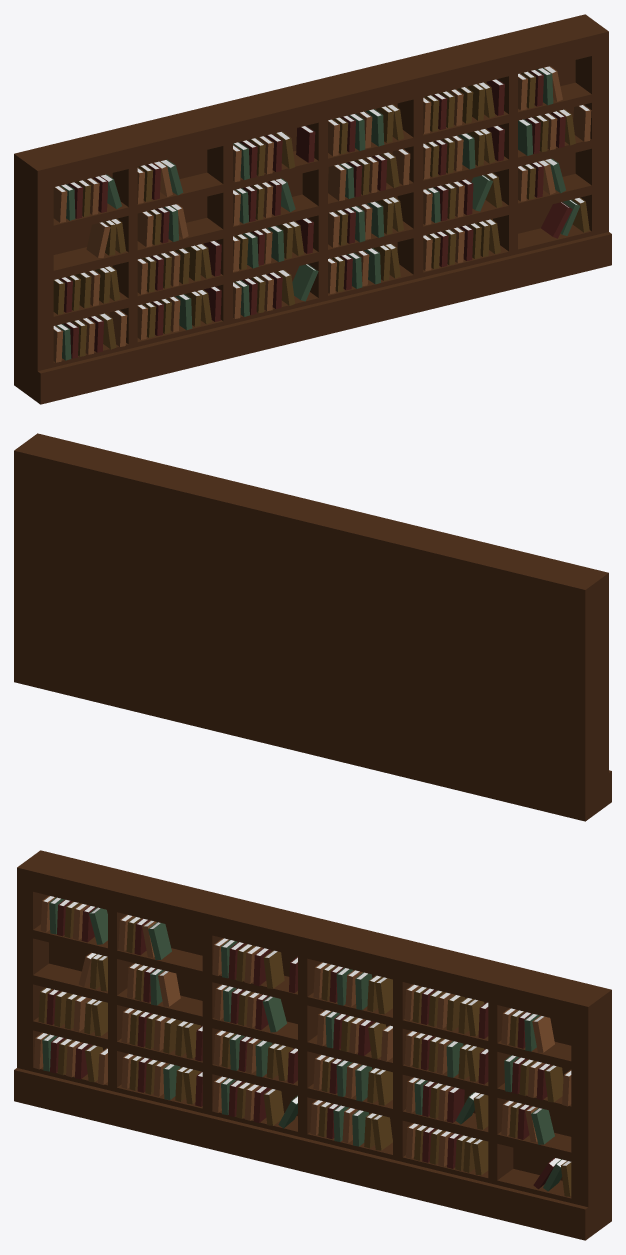
Rendered from BookShelf.fbx.
3 renders of one model, top to bottom at view 1: azimuth 30°, elevation 25°; view 2: azimuth 150°, elevation 25°; view 3: azimuth 330°, elevation 25°, orthographic.
Visible parts, largest first — view 1: Bookshelf, Book3.035, Book2.001, Book1.045, Book3.024, Book1.023, Book1.017, Book1.031, Book2.003; view 2: Bookshelf; view 3: Bookshelf, Book4.015, Book2.024, Book1.034, Book1.032, Book2.020, Book2.022, Book4.001, Book4.042, Book4.024, Book4.056, Book4.041 (+2 smaller).
Part boxes in pixels (x1=…): Bookshelf: x1=14, y1=14, x2=611, y2=404; Book3.035: x1=541, y1=202, x2=572, y2=238; Book2.001: x1=292, y1=264, x2=318, y2=301; Book1.045: x1=86, y1=222, x2=110, y2=257; Book3.024: x1=296, y1=126, x2=315, y2=162; Book1.023: x1=328, y1=164, x2=346, y2=200; Book1.017: x1=573, y1=104, x2=591, y2=141; Book1.031: x1=137, y1=211, x2=153, y2=247; Book2.003: x1=471, y1=175, x2=492, y2=211; Bookshelf: x1=14, y1=433, x2=611, y2=821; Bookshelf: x1=14, y1=850, x2=611, y2=1240; Book4.015: x1=263, y1=950, x2=284, y2=988; Book2.024: x1=148, y1=922, x2=171, y2=960; Book1.034: x1=532, y1=1015, x2=554, y2=1052; Book1.032: x1=158, y1=970, x2=180, y2=1006; Book2.020: x1=531, y1=1108, x2=554, y2=1144; Book2.022: x1=262, y1=996, x2=286, y2=1032; Book4.001: x1=263, y1=1088, x2=283, y2=1125; Book4.042: x1=372, y1=1114, x2=392, y2=1150; Book4.024: x1=544, y1=1065, x2=563, y2=1102; Book4.056: x1=375, y1=977, x2=392, y2=1014; Book4.041: x1=375, y1=1069, x2=392, y2=1105.
Size of the model in its own units: 900 by 348 by 72.48.
